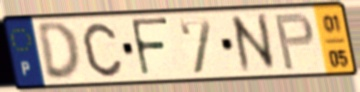7: (177, 16, 214, 77)
C: (80, 20, 125, 79)
D: (35, 20, 83, 84)
F: (128, 16, 172, 79)
N: (227, 10, 281, 76)
P: (272, 10, 317, 72)
